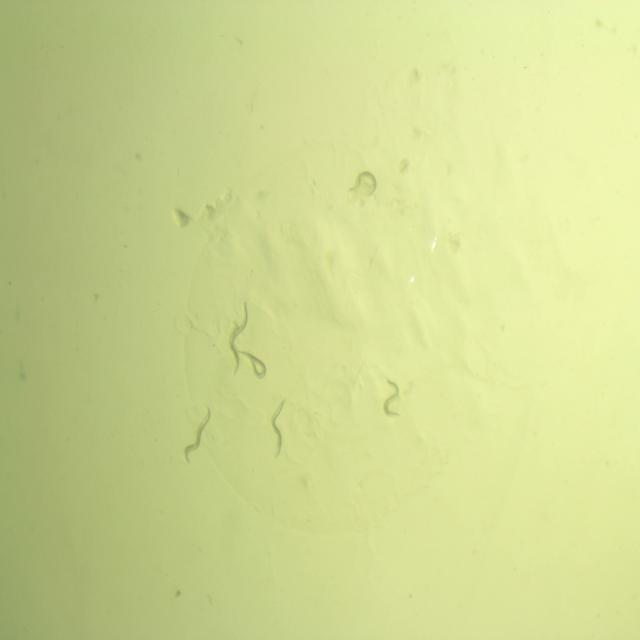worm: (224, 293, 252, 379), (178, 404, 214, 467), (266, 395, 288, 464), (377, 376, 404, 425), (345, 169, 380, 204), (238, 347, 270, 385)
